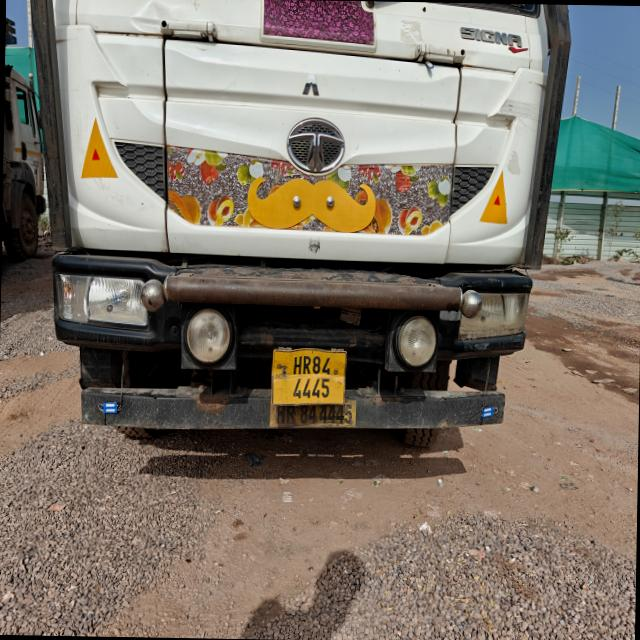license_plate: (272, 349, 346, 406), (271, 401, 356, 427)
